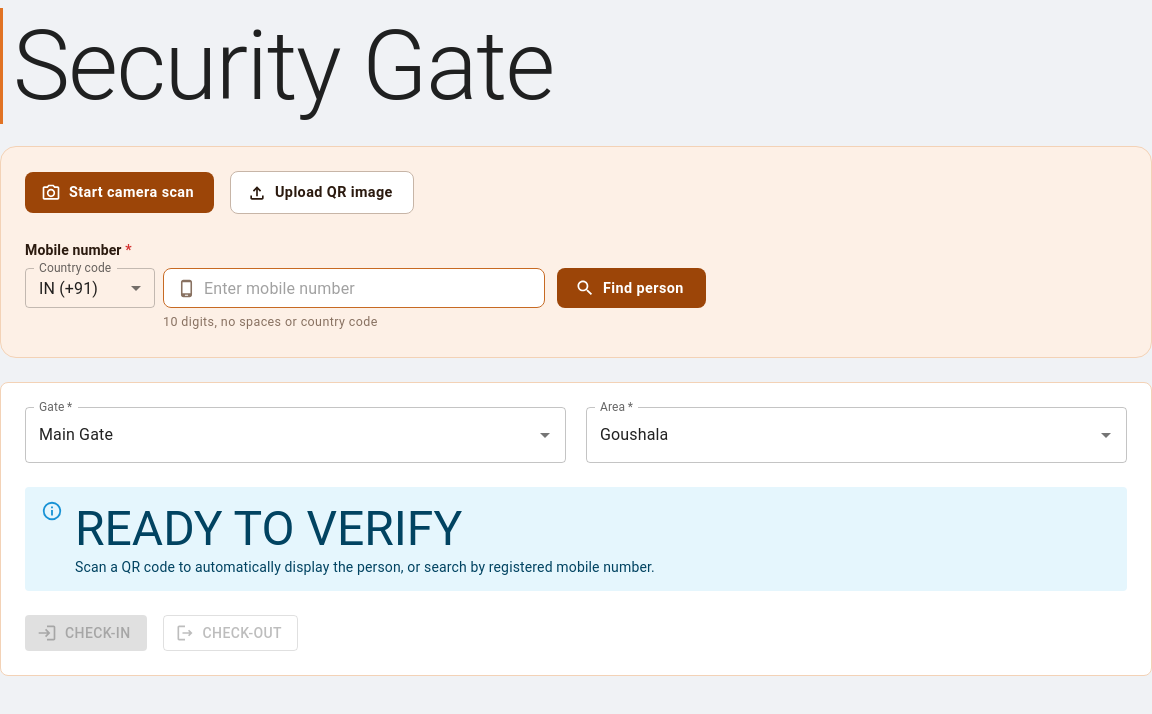
Test case: uses a desktop-compatible camera preference and looks up each scan only once
Click the button "Start camera scan" at (120, 193), box [25,172,214,213]
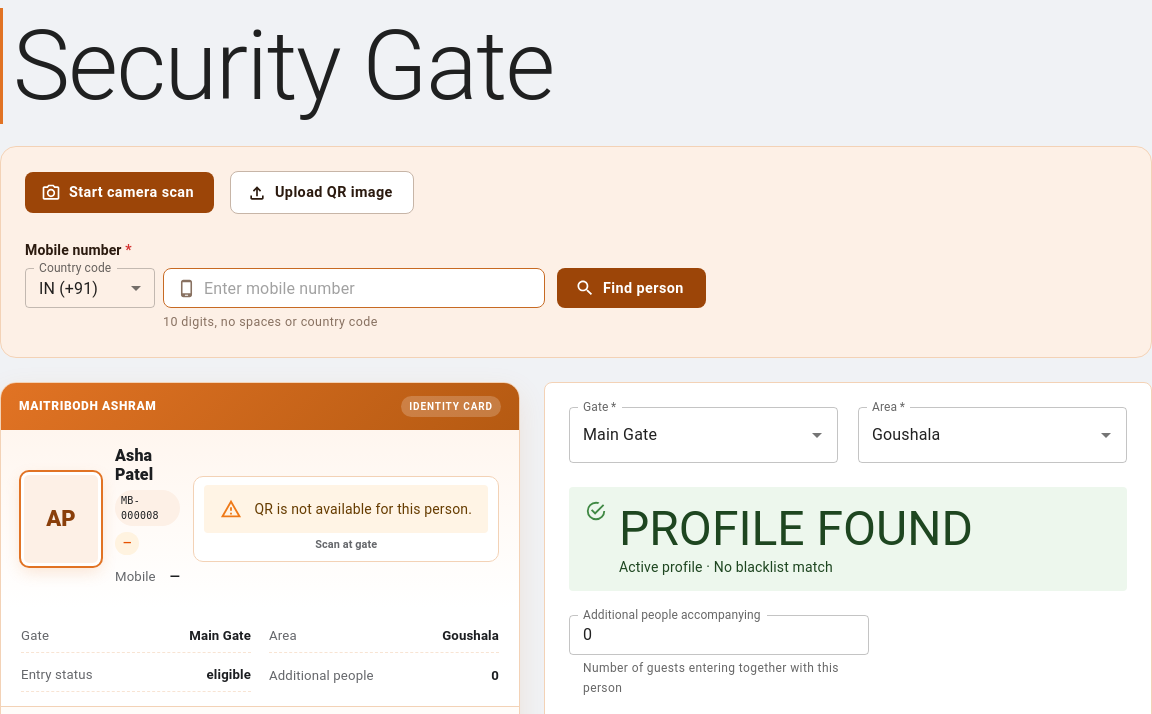
Result: the text "Asha Patel" is shown at [115,446,153,484]
